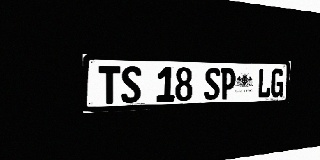1: (156, 67, 175, 102)
8: (175, 67, 193, 101)
G: (270, 69, 284, 98)
L: (257, 68, 271, 98)
P: (220, 68, 236, 100)
S: (121, 66, 141, 103), (204, 68, 220, 100)
T: (99, 66, 120, 104)
